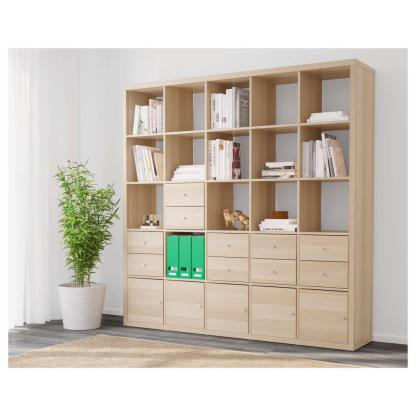lamp: (121, 56, 378, 354)
